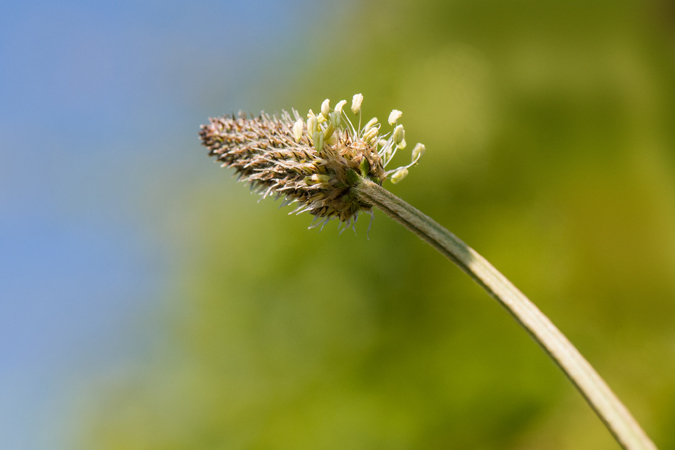buckhorn plantain: (191, 105, 628, 401)
